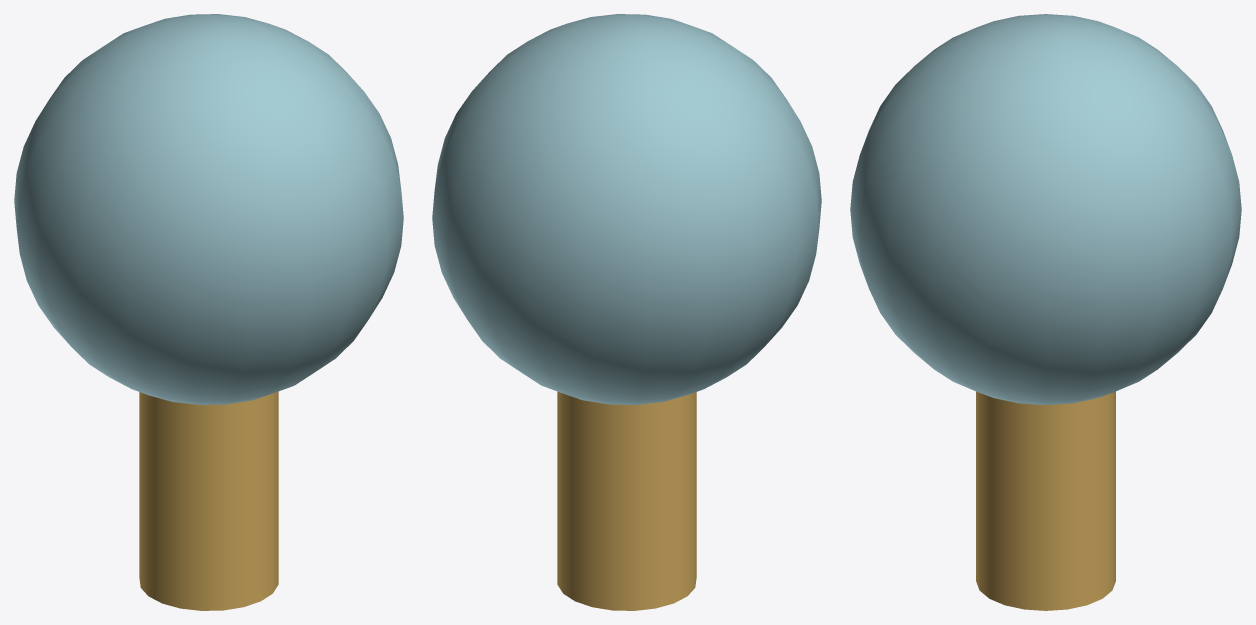
The model's file is redonda_azul.fbx.
3 views of the same model, side by side, from view 1: azimuth 30°, elevation 25°; view 2: azimuth 150°, elevation 25°; view 3: azimuth 270°, elevation 25° (orthographic).
Visible parts, largest first — view 1: pSphere4, arvore15; view 2: pSphere4, arvore15; view 3: pSphere4, arvore15.
Boxes of the visible parts, box(x1,y1,x2,y2) form: pSphere4: box(14, 14, 403, 404); arvore15: box(139, 391, 278, 610); pSphere4: box(432, 14, 821, 404); arvore15: box(557, 391, 696, 610); pSphere4: box(850, 14, 1241, 405); arvore15: box(976, 391, 1115, 610).
Bounding box in the file's own units: 1.5 × 2.32 × 1.5.
